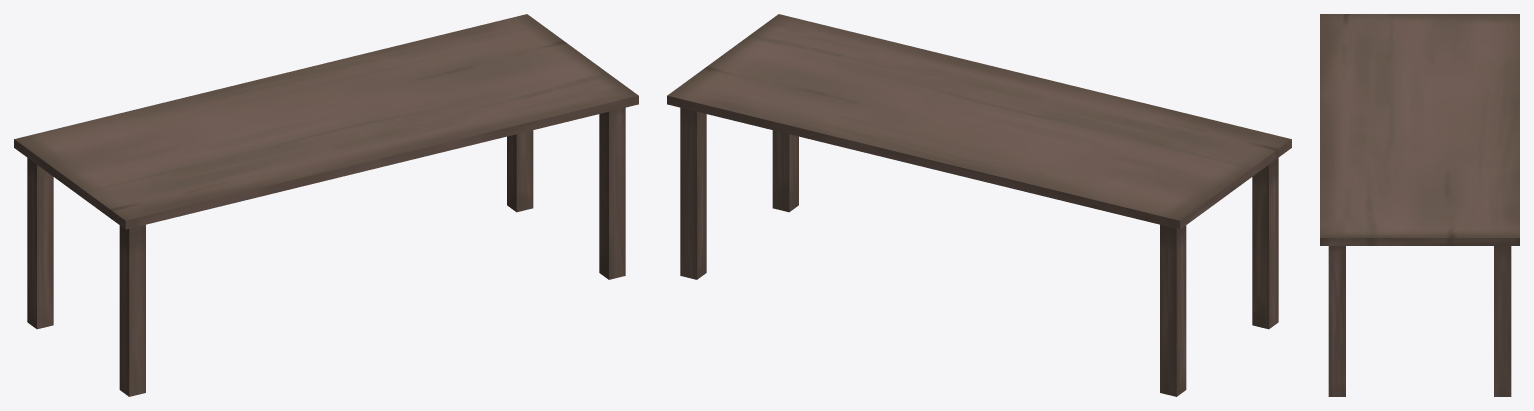
File: Table.fbx
3 views of the same model, side by side, from view 1: azimuth 30°, elevation 25°; view 2: azimuth 150°, elevation 25°; view 3: azimuth 270°, elevation 25° (orthographic). The views are drawn at different scales.
Visible parts, largest first — view 1: Cube; view 2: Cube; view 3: Cube.
Boxes of the visible parts, <box> form: Cube: <box>14,14,638,396</box>; Cube: <box>667,14,1291,396</box>; Cube: <box>1320,14,1519,396</box>.
Size of the model in its own units: 6.14 by 2.08 by 2.31.
